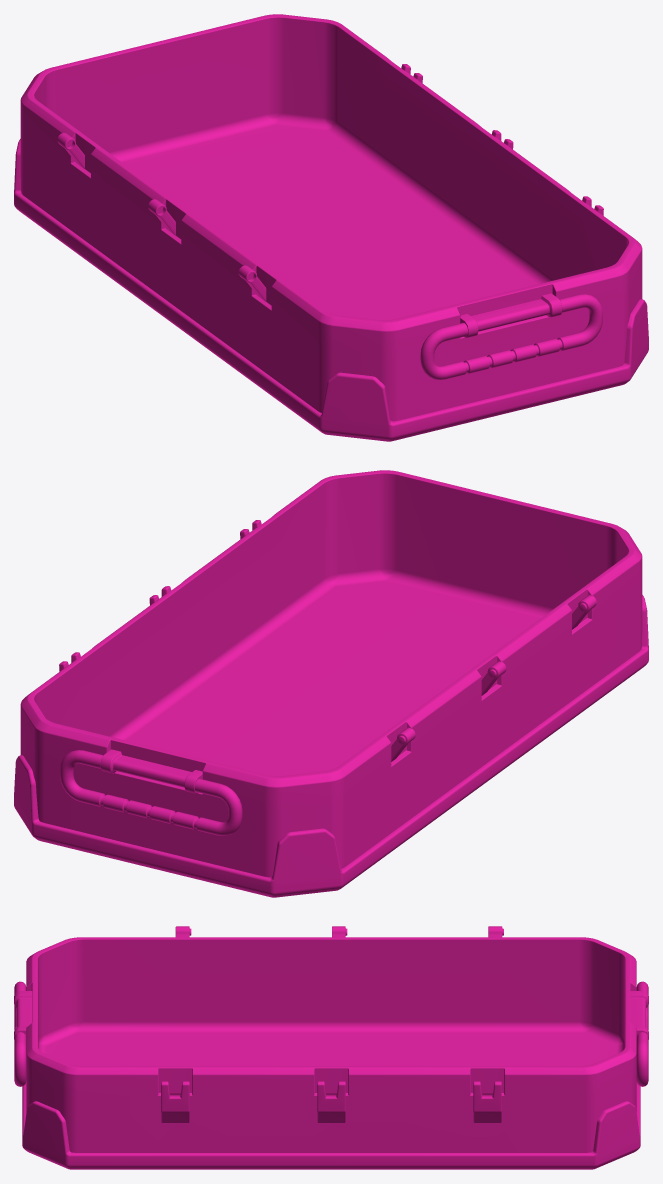
3 views of the same model, one above another, from view 1: azimuth 30°, elevation 25°; view 2: azimuth 150°, elevation 25°; view 3: azimuth 270°, elevation 25° (orthographic). The views are drawn at different scales.
Visible parts, largest first — view 1: SM_Box02_part01; view 2: SM_Box02_part01; view 3: SM_Box02_part01.
Part boxes in pixels (bbox=[...]): SM_Box02_part01: bbox=[14, 14, 648, 441]; SM_Box02_part01: bbox=[14, 470, 648, 897]; SM_Box02_part01: bbox=[14, 926, 648, 1169].
Size of the model in its own units: 128 by 42.63 by 234.
